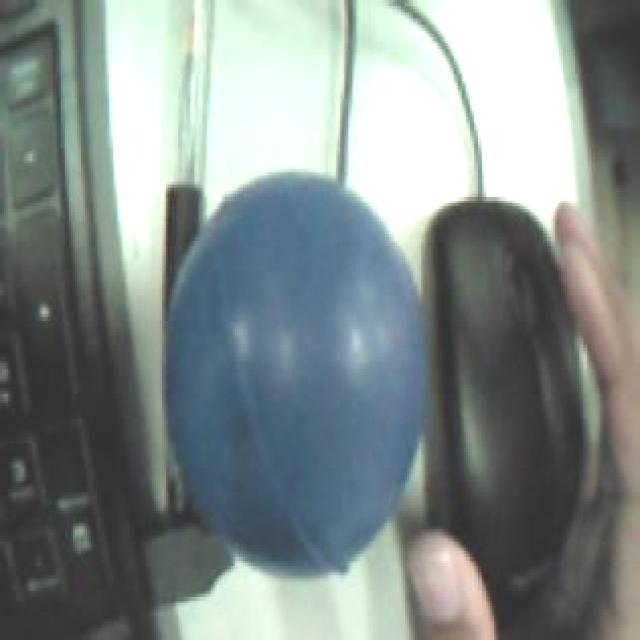BallPurple: (168, 169, 428, 580)
